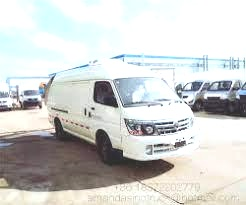van: (42, 58, 205, 173)
